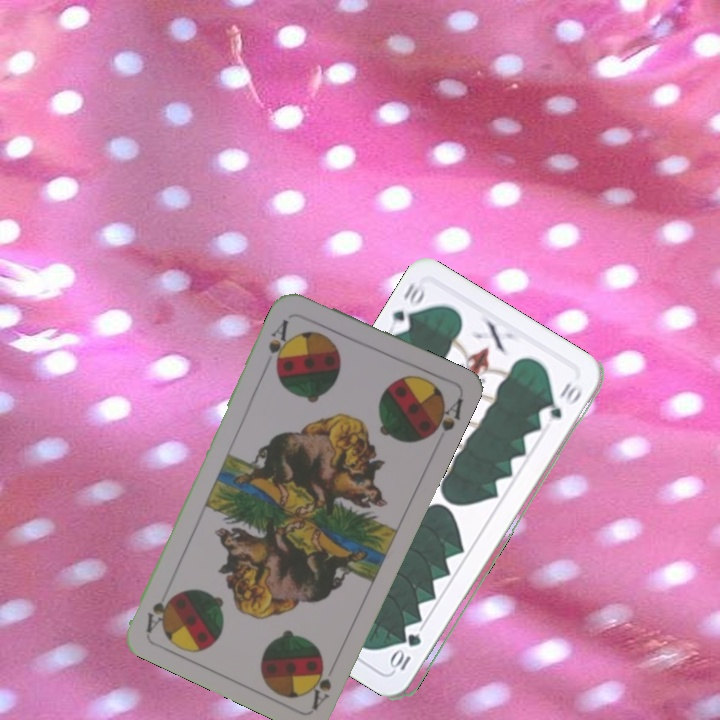G10: (386, 279, 428, 337), (389, 629, 424, 673)
SA: (302, 655, 334, 712), (264, 315, 294, 372)
